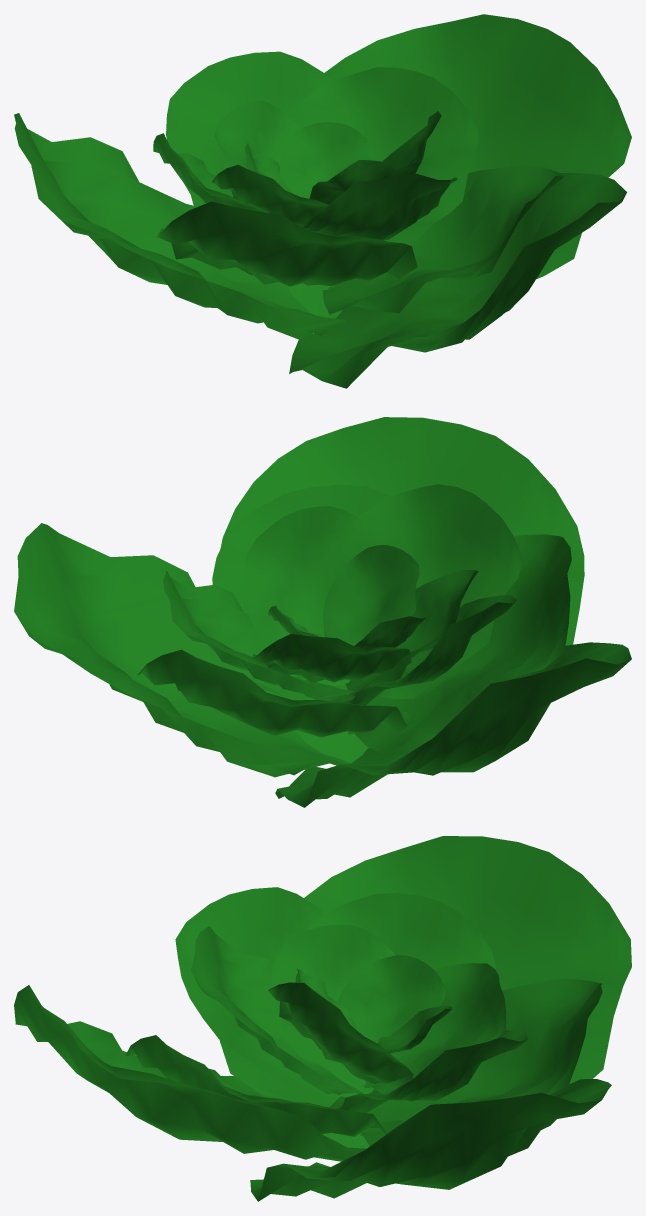
The model's file is LECHUGA.fbx.
3 views of the same model, one above another, from view 1: azimuth 30°, elevation 25°; view 2: azimuth 150°, elevation 25°; view 3: azimuth 270°, elevation 25° (orthographic). The views are drawn at different scales.
Parts seen in each view (by area): view 1: Plane.014; view 2: Plane.014; view 3: Plane.014.
Boxes of the visible parts, left/top/right/bottom form: Plane.014: left=14, top=14, right=631, bottom=388; Plane.014: left=14, top=417, right=631, bottom=807; Plane.014: left=14, top=836, right=631, bottom=1201.
Bounding box in the file's own units: 294 × 110 × 276.
